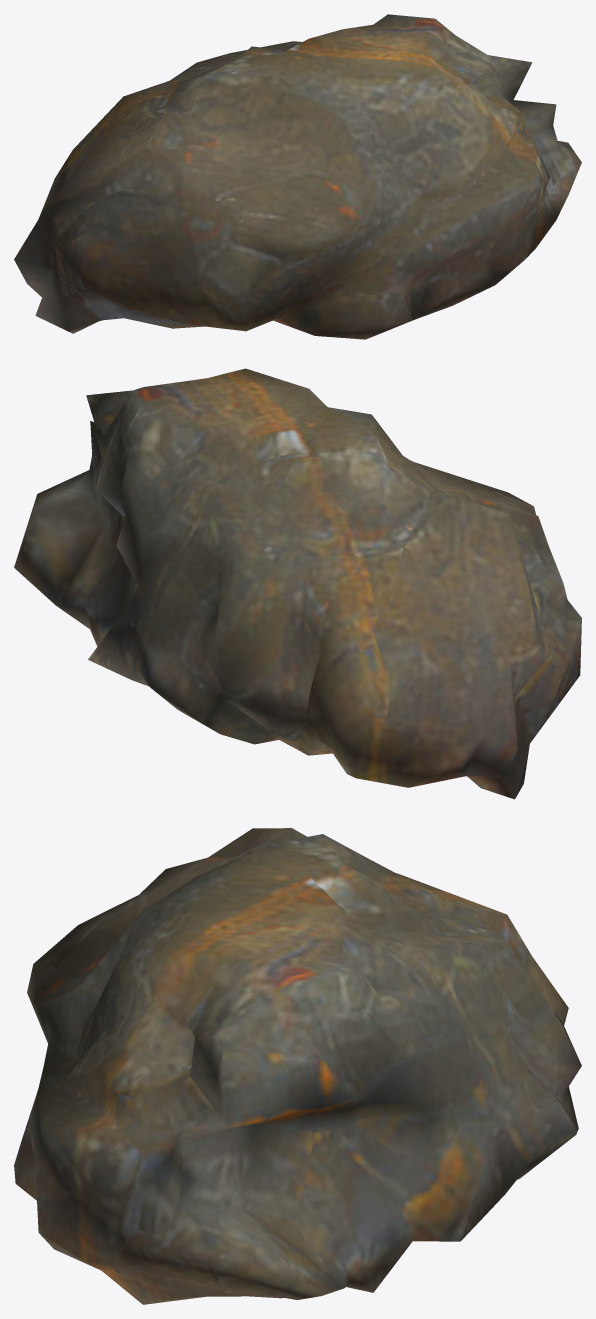
Rendered from Q_Rock_4.fbx.
3 renders of one model, top to bottom at view 1: azimuth 30°, elevation 25°; view 2: azimuth 150°, elevation 25°; view 3: azimuth 270°, elevation 25°, orthographic. The views are drawn at different scales.
Parts seen in each view (by area): view 1: Aset_rock_smooth_S_uglldgifa_04_LOD4; view 2: Aset_rock_smooth_S_uglldgifa_04_LOD4; view 3: Aset_rock_smooth_S_uglldgifa_04_LOD4.
Part boxes in pixels (<box>): Aset_rock_smooth_S_uglldgifa_04_LOD4: <box>14,14,581,339</box>; Aset_rock_smooth_S_uglldgifa_04_LOD4: <box>14,368,581,799</box>; Aset_rock_smooth_S_uglldgifa_04_LOD4: <box>14,828,581,1304</box>.
Bounding box in the file's own units: 11.81 × 5.84 × 8.3.
1 material, 1 textured.
